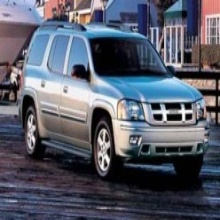no damage: (19, 20, 208, 181)
